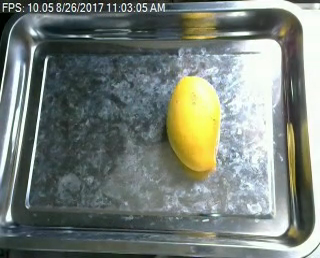Mango: (162, 70, 225, 178)
